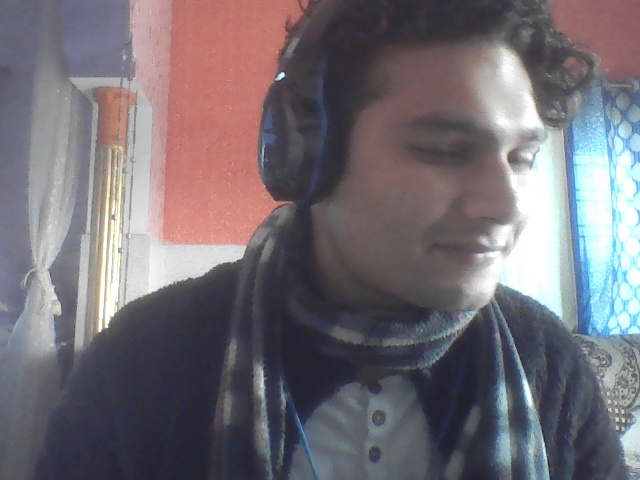real: (287, 0, 564, 392)
